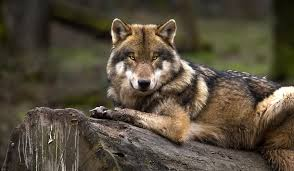Lobo: (95, 15, 283, 147)
